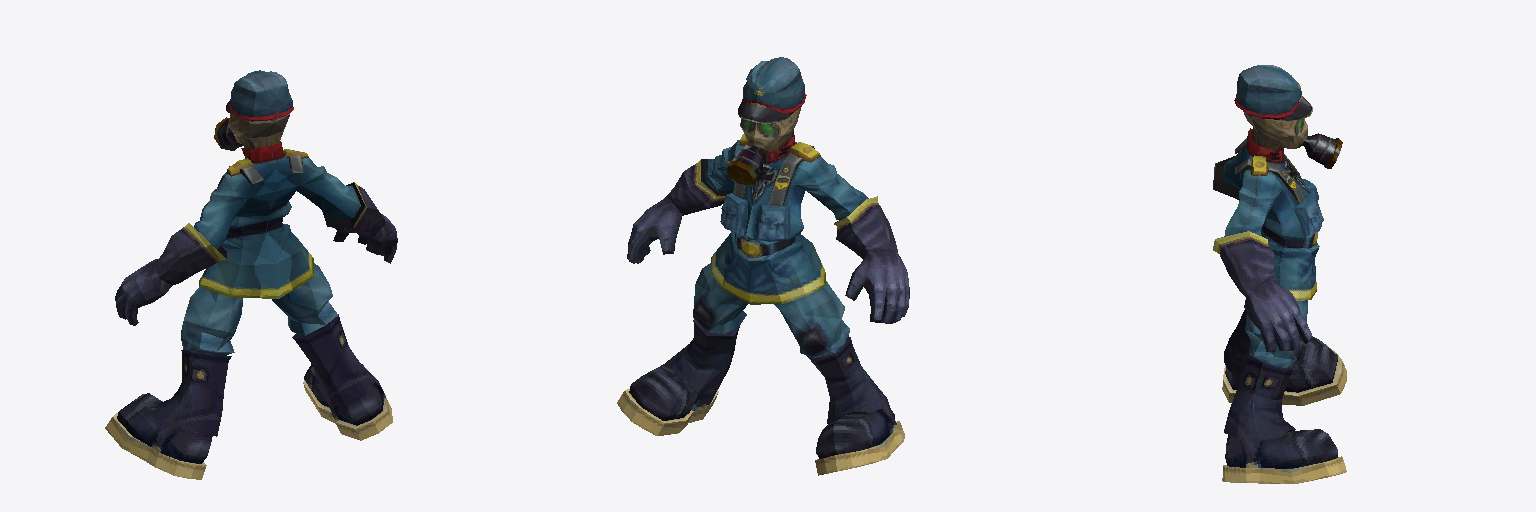
3 views of the same model, side by side, from view 1: azimuth 30°, elevation 25°; view 2: azimuth 150°, elevation 25°; view 3: azimuth 270°, elevation 25° (orthographic).
Parts seen in each view (by area): view 1: WF_GRUNT_MESH; view 2: WF_GRUNT_MESH; view 3: WF_GRUNT_MESH.
Part boxes in pixels (bbox=[...]): WF_GRUNT_MESH: bbox=[105, 70, 397, 479]; WF_GRUNT_MESH: bbox=[617, 57, 909, 475]; WF_GRUNT_MESH: bbox=[1213, 65, 1346, 483].
Bounding box in the file's own units: 1.38 × 1.81 × 0.583.
Materials: 2 (2 with a texture image).